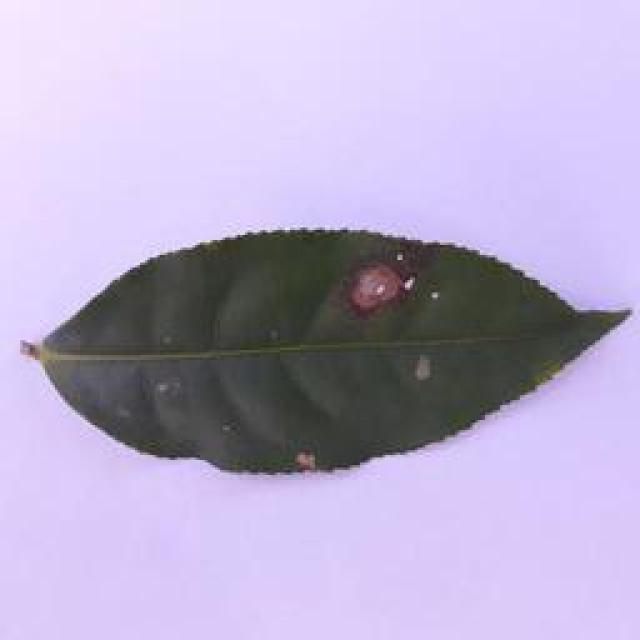Gray Blight: (19, 224, 631, 478)
